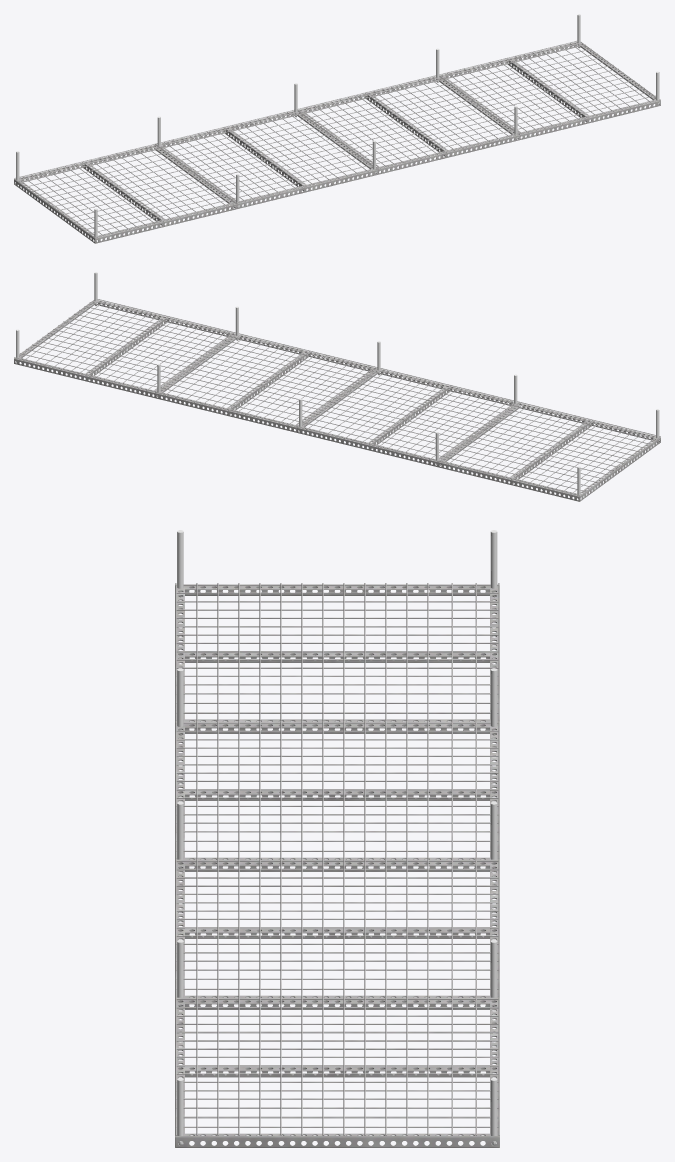
The picture shows the model from 3 angles, top to bottom: view 1: azimuth 30°, elevation 25°; view 2: azimuth 150°, elevation 25°; view 3: azimuth 270°, elevation 25°; orthographic projection. The views are drawn at different scales.
Parts seen in each view (by area): view 1: Grill004, Rods004; view 2: Grill004, Rods004; view 3: Grill004, Rods004.
Boxes of the visible parts, x1,y1,x2,y2 form: Grill004: (14,41,660,243); Rods004: (16,14,659,242); Grill004: (14,299,660,501); Rods004: (16,272,659,499); Grill004: (175,583,499,1147); Rods004: (177,530,497,1145).
Bounding box in the file's own units: 124 × 6.98 × 30.94.
2 materials, 2 textured.
